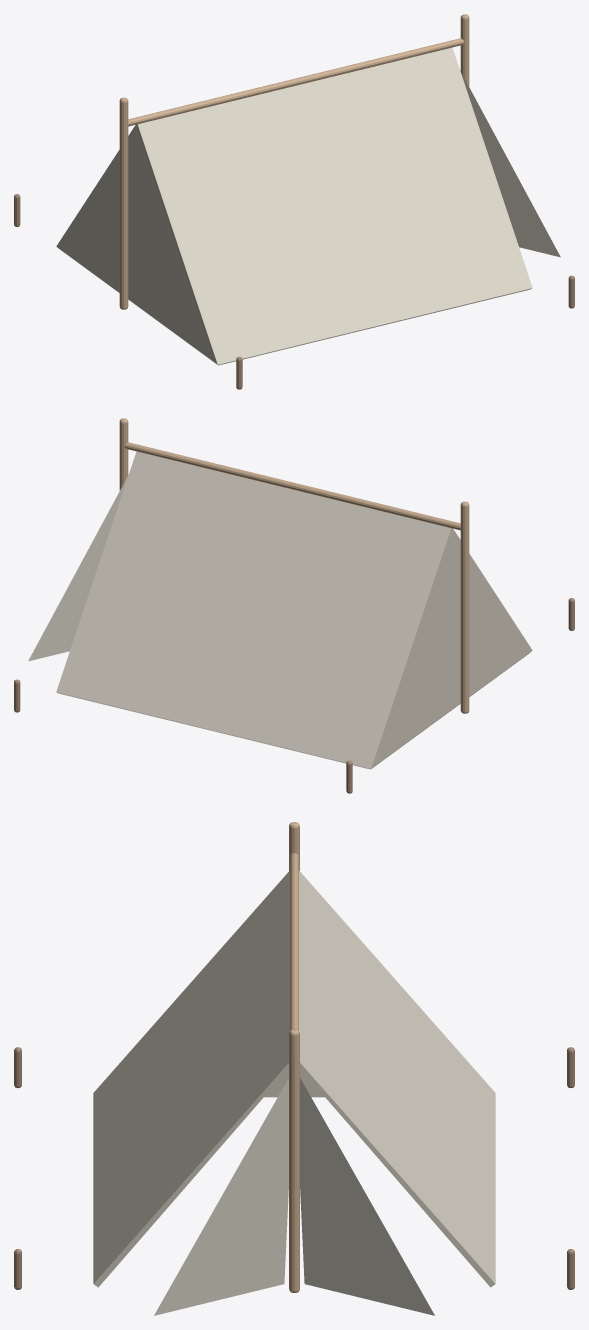
File: lm_camp_tent_a.glb
3 views of the same model, one above another, from view 1: azimuth 30°, elevation 25°; view 2: azimuth 150°, elevation 25°; view 3: azimuth 270°, elevation 25° (orthographic). The views are drawn at different scales.
Visible parts, largest first — view 1: lm_camp_tent_a; view 2: lm_camp_tent_a; view 3: lm_camp_tent_a.
Part boxes in pixels (bbox=[...]): lm_camp_tent_a: bbox=[14, 14, 574, 389]; lm_camp_tent_a: bbox=[14, 418, 574, 793]; lm_camp_tent_a: bbox=[14, 822, 574, 1315].
Size of the model in its own units: 4.39 by 2.33 by 4.46.
